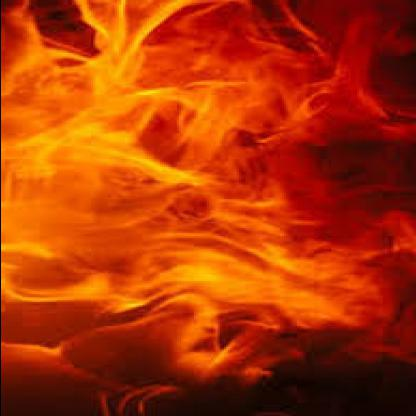Fire: (27, 24, 391, 338)
